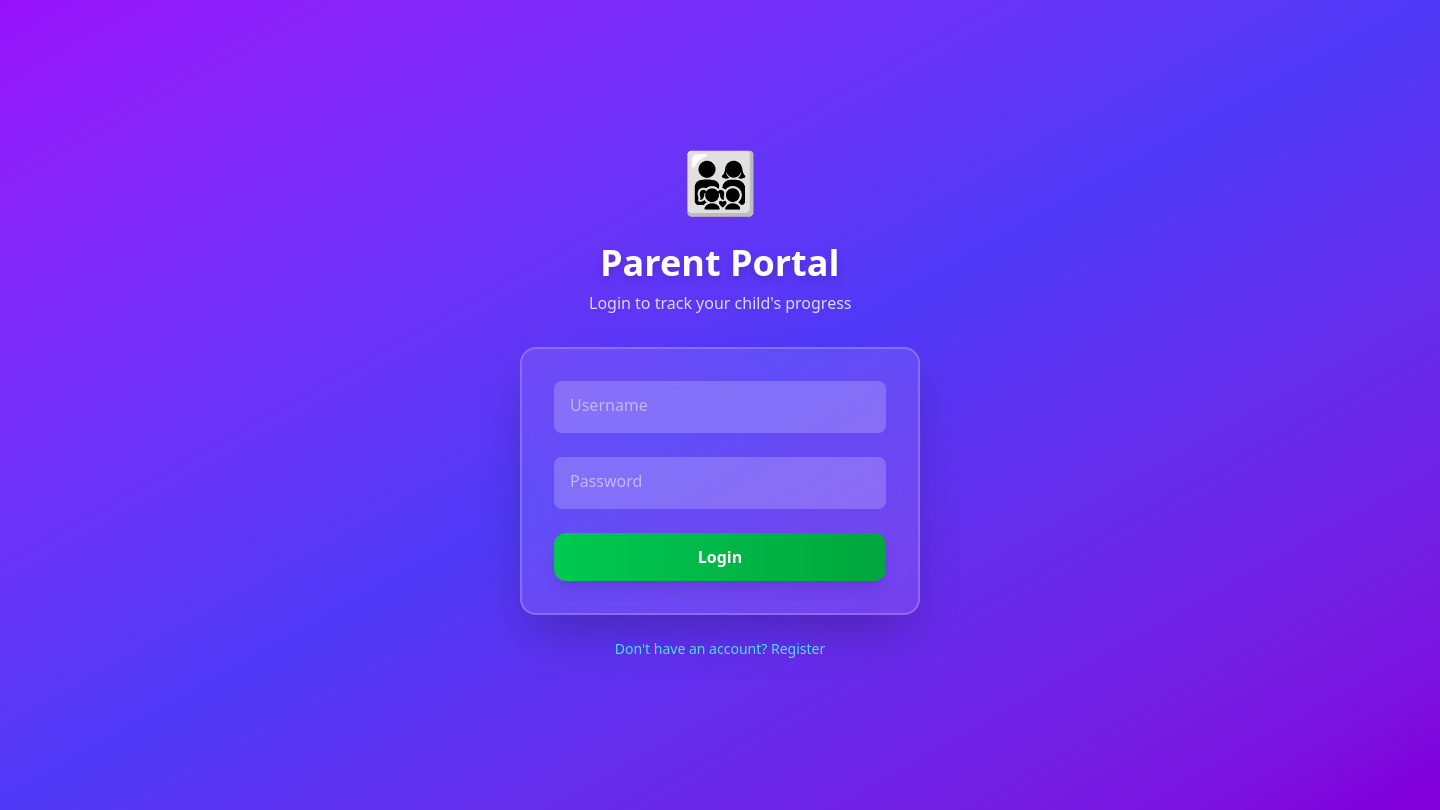
Test: ParentLogin › should show validation error for short username
Type "ab" into the field labelled "Username" at (720, 407), box [554,381,886,433]
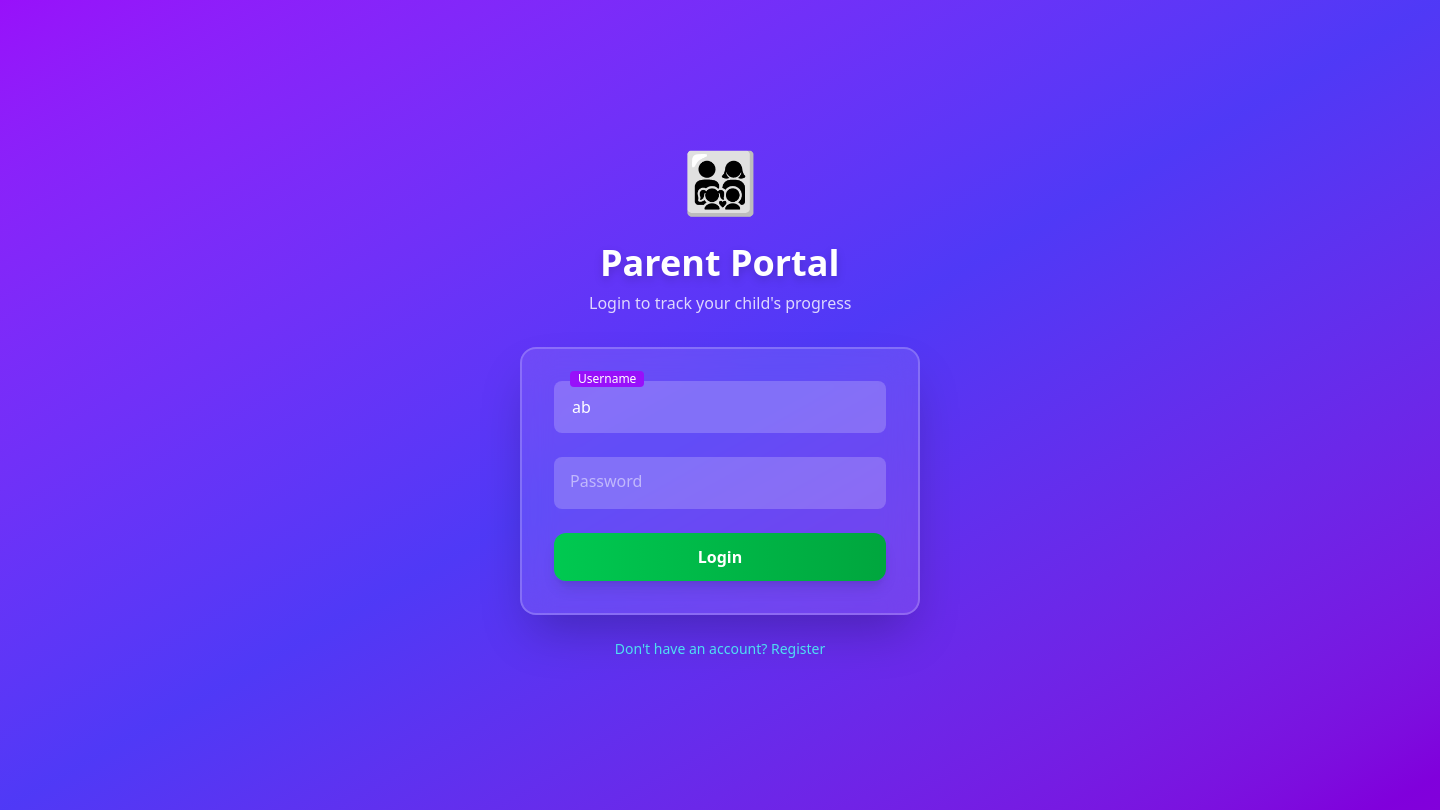
Type "password123" into the password field labelled "Password" at (720, 483), box [554,457,886,509]
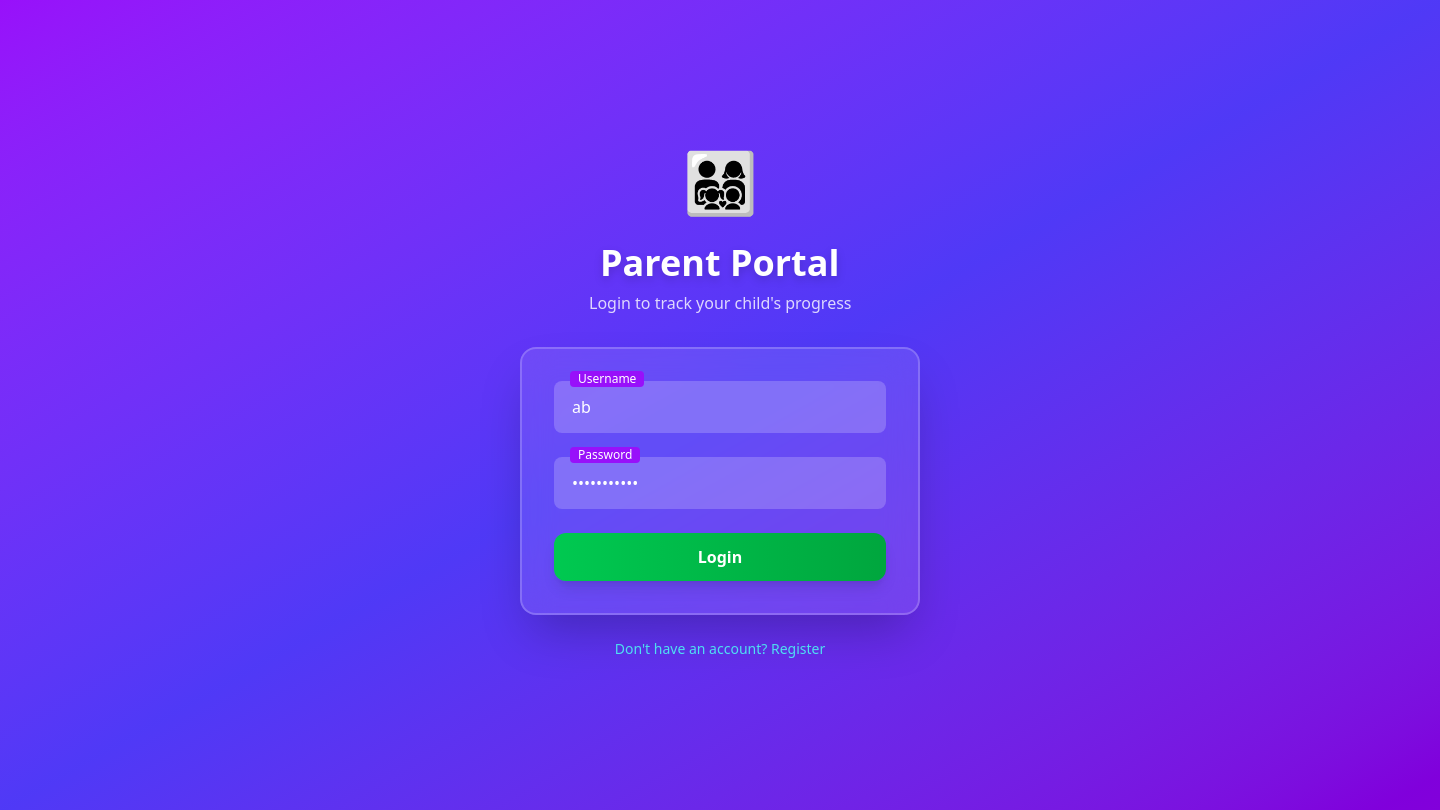
Click the button "Login" at (720, 557), box [554,533,886,581]
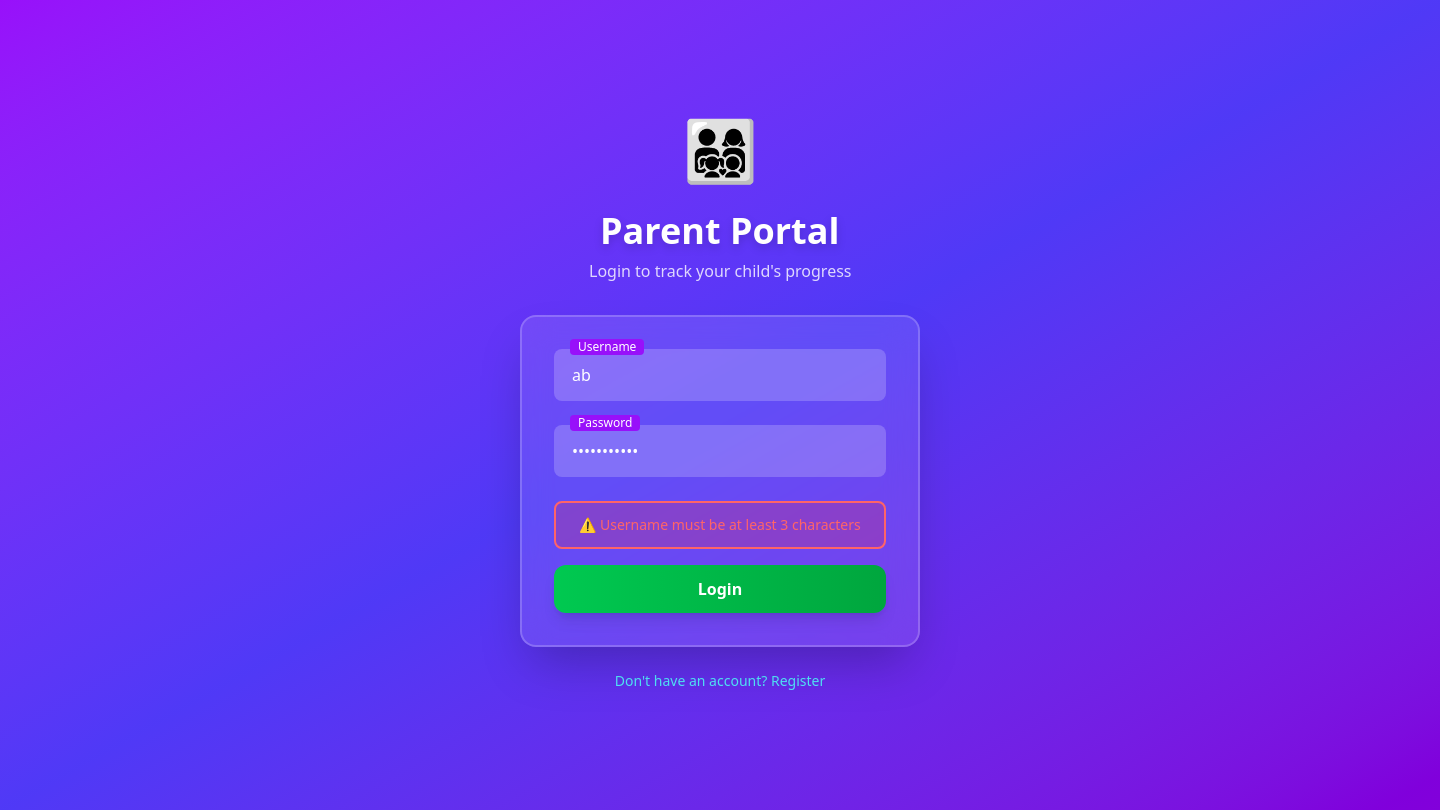
expect the text "⚠️ Username must be at least 3 characters" is shown: met, box [568,515,872,535]
